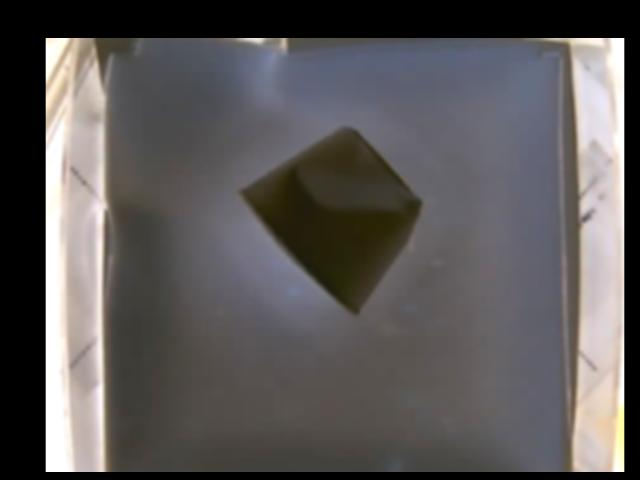Cup: (237, 124, 420, 317)
